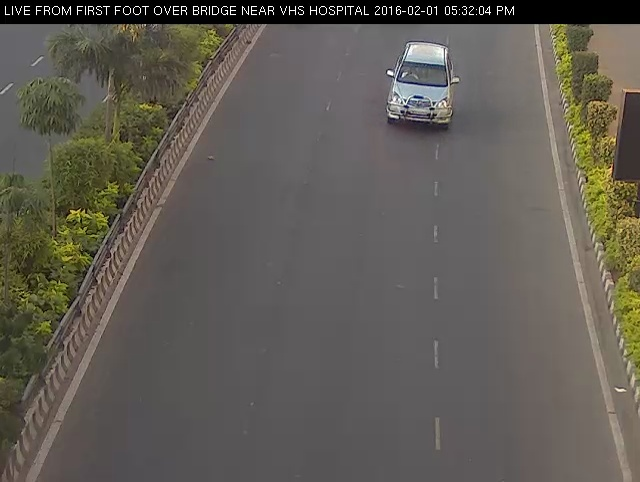Car: (375, 33, 468, 136)
